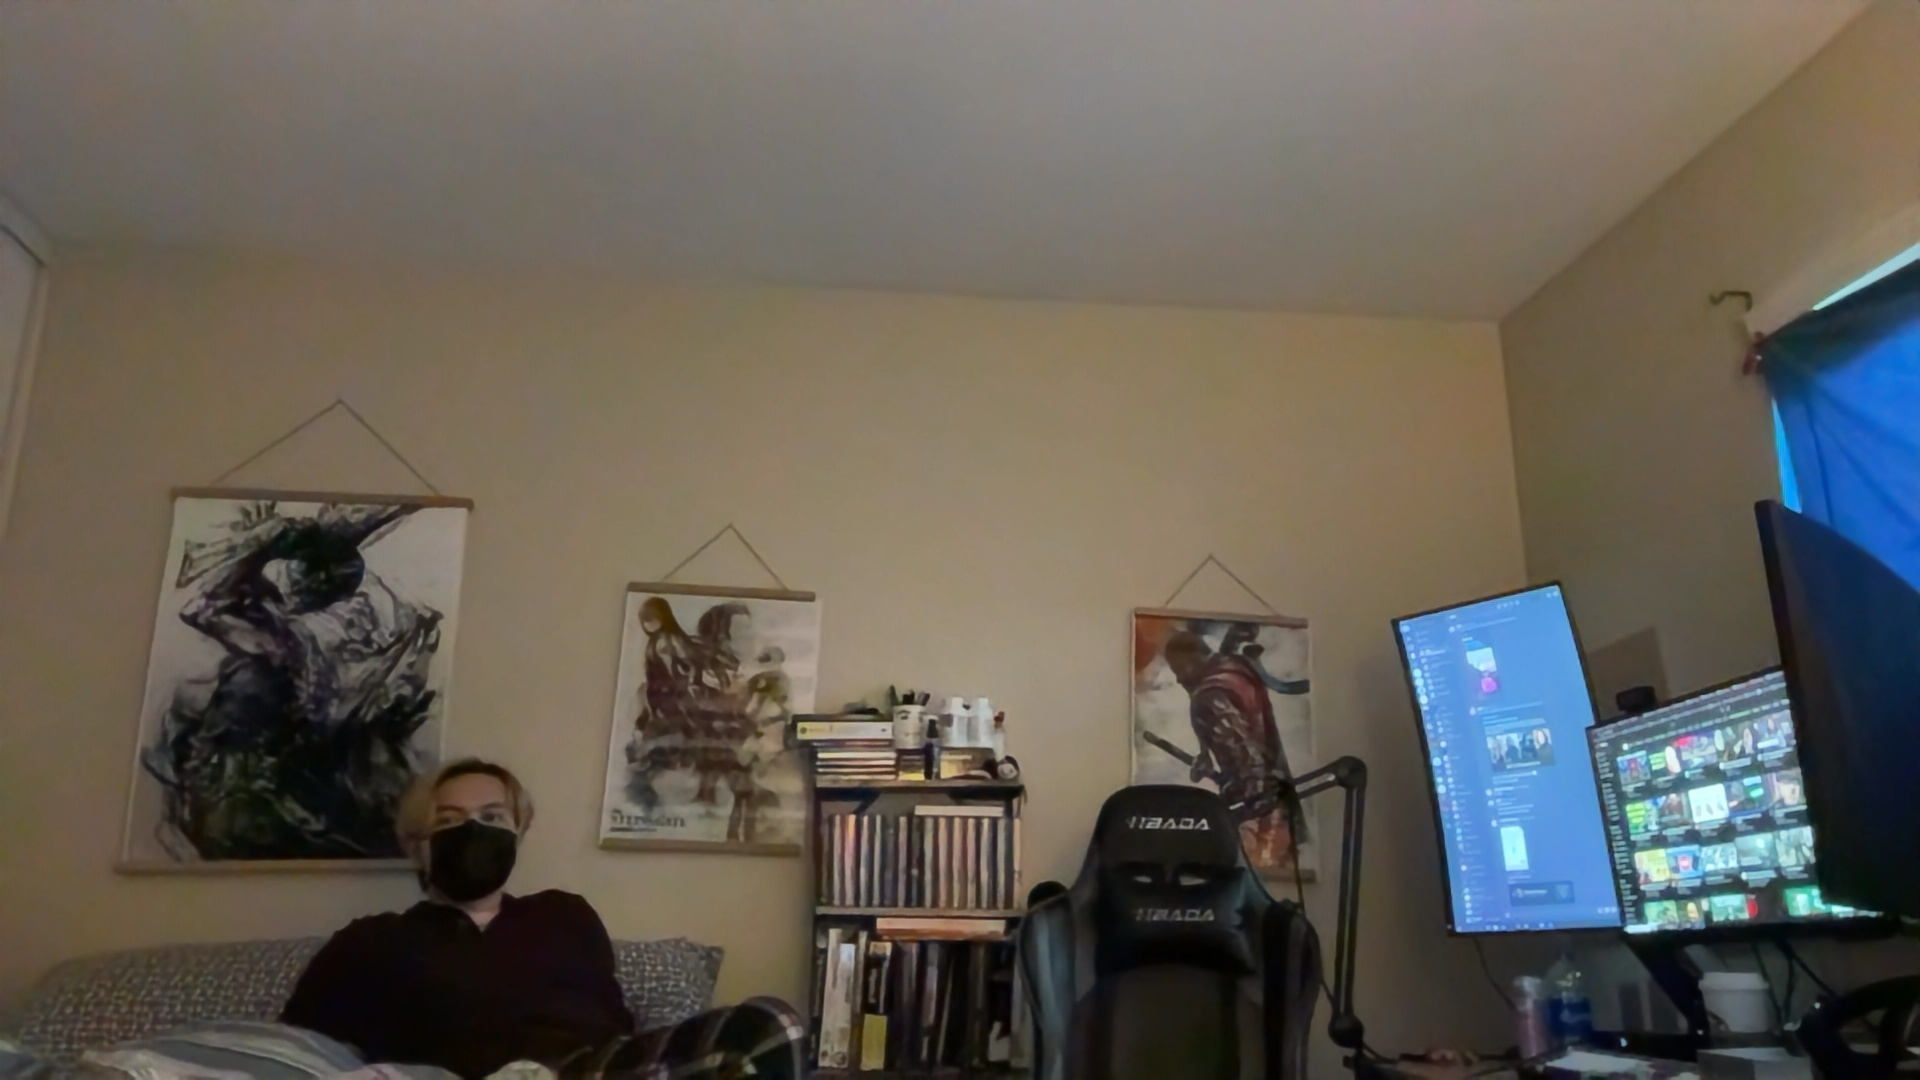masked: (414, 794, 517, 902)
